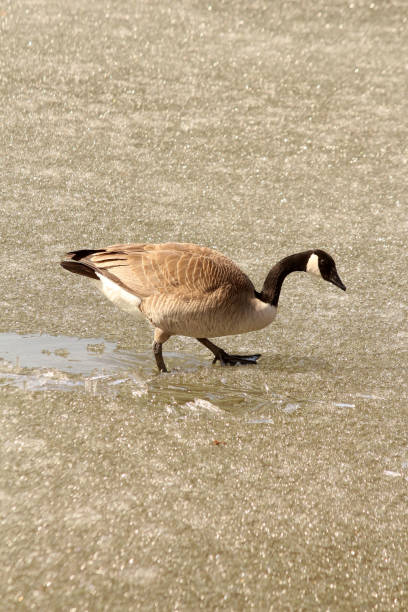goose: (59, 237, 352, 379)
